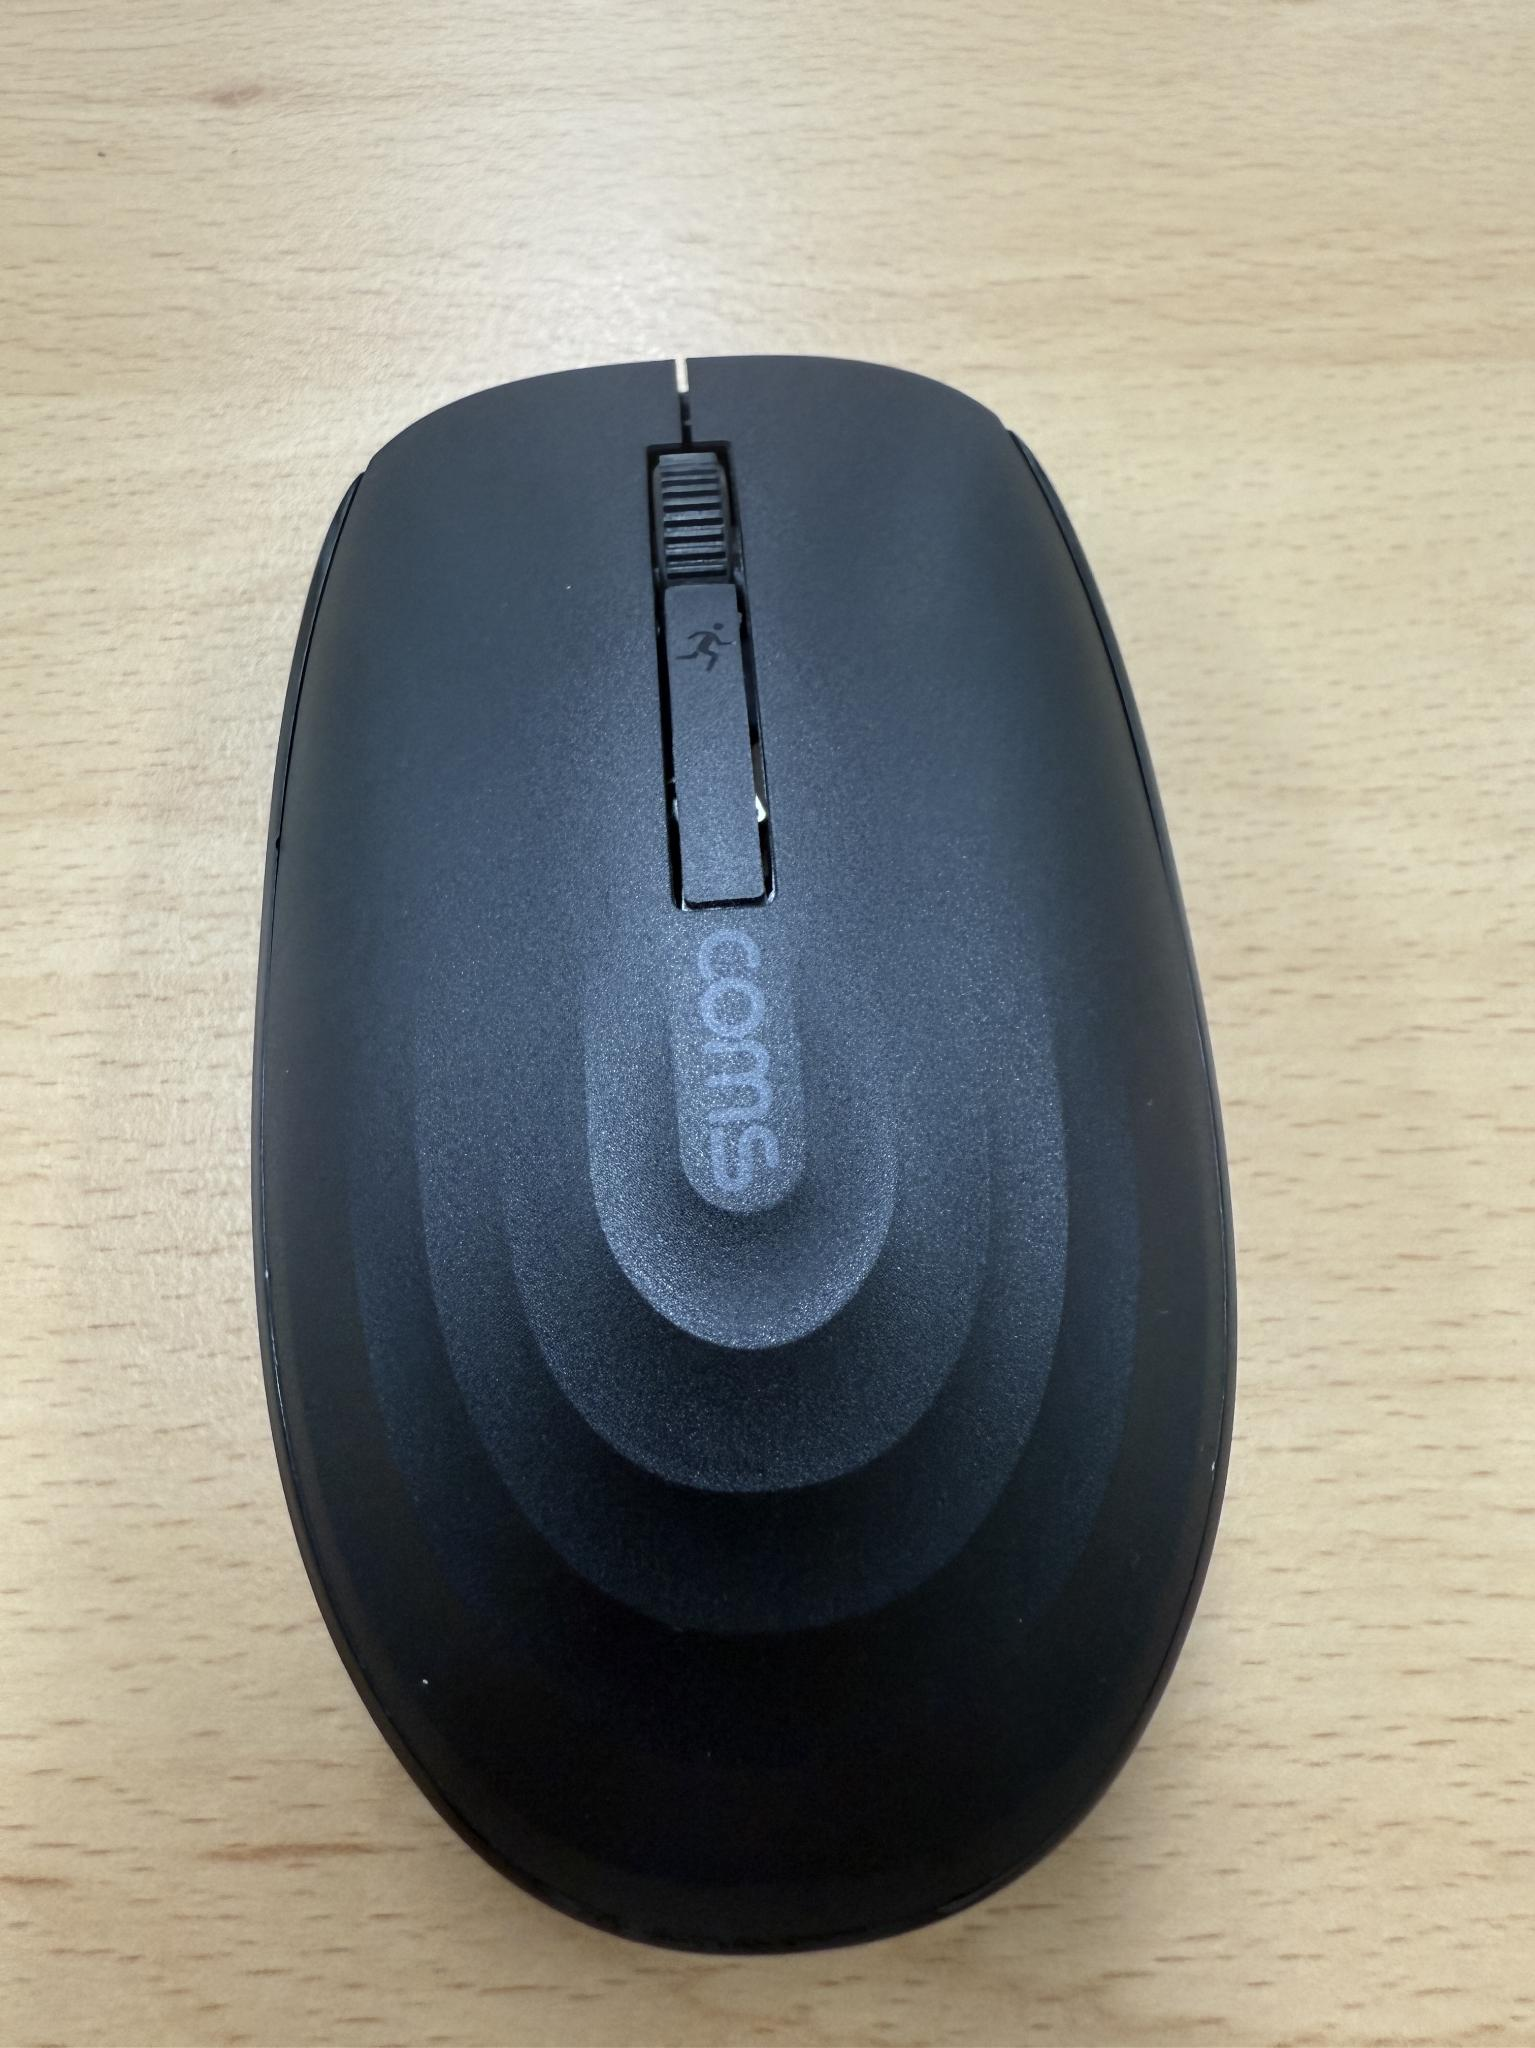front: (231, 339, 1248, 1953)
